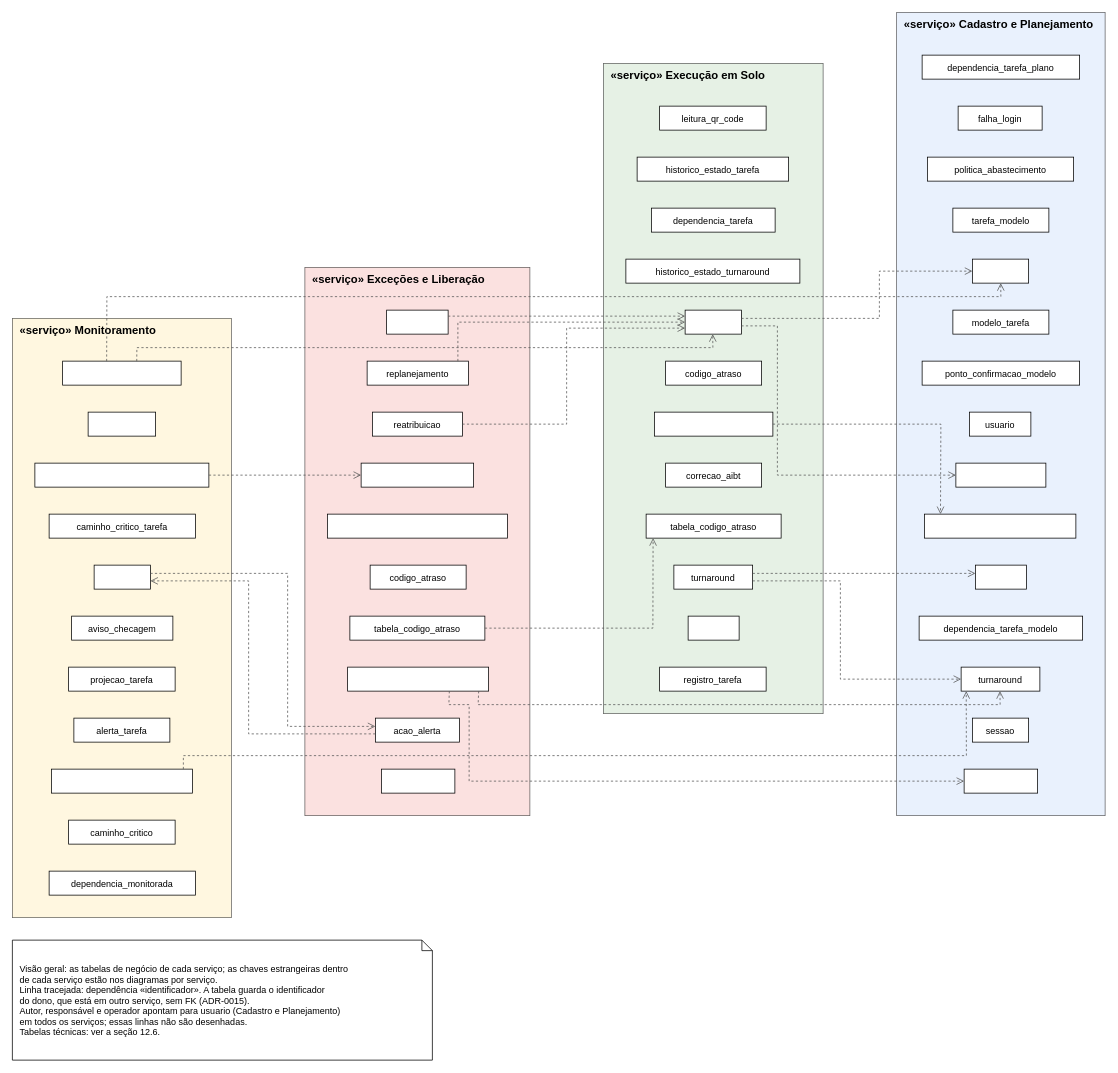
Some shapes in this 1118 by 1073 pixel diagram are drawn without their labels. The shapes that lost their labels are listed below. From the top down, each one's centre as x and y in pixels, then its label:
At (x=1000, y=270): "equipe".
At (x=417, y=321): "excecao".
At (x=712, y=321): "tarefa".
At (x=121, y=372): "tarefa_monitorada".
At (x=121, y=423): "projecao".
At (x=713, y=423): "ponto_confirmacao".
At (x=121, y=474): "atualizacao_tobt_monitorada".
At (x=417, y=474): "atualizacao_tobt".
At (x=1000, y=474): "tarefa_plano".
At (x=417, y=525): "solicitacao_atualizacao_tobt".
At (x=1000, y=525): "ponto_confirmacao_plano".
At (x=121, y=576): "alerta".
At (x=1000, y=576): "plano".
At (x=713, y=627): "marco".
At (x=418, y=678): "turnaround_referencia".
At (x=121, y=780): "turnaround_monitorado".
At (x=418, y=780): "liberacao".
At (x=1000, y=780): "companhia".
